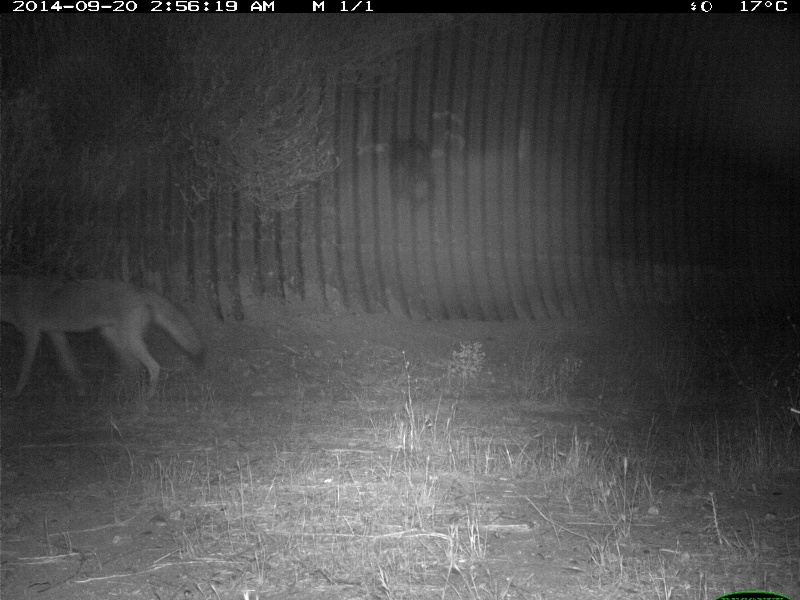coyote: (1, 269, 208, 409)
